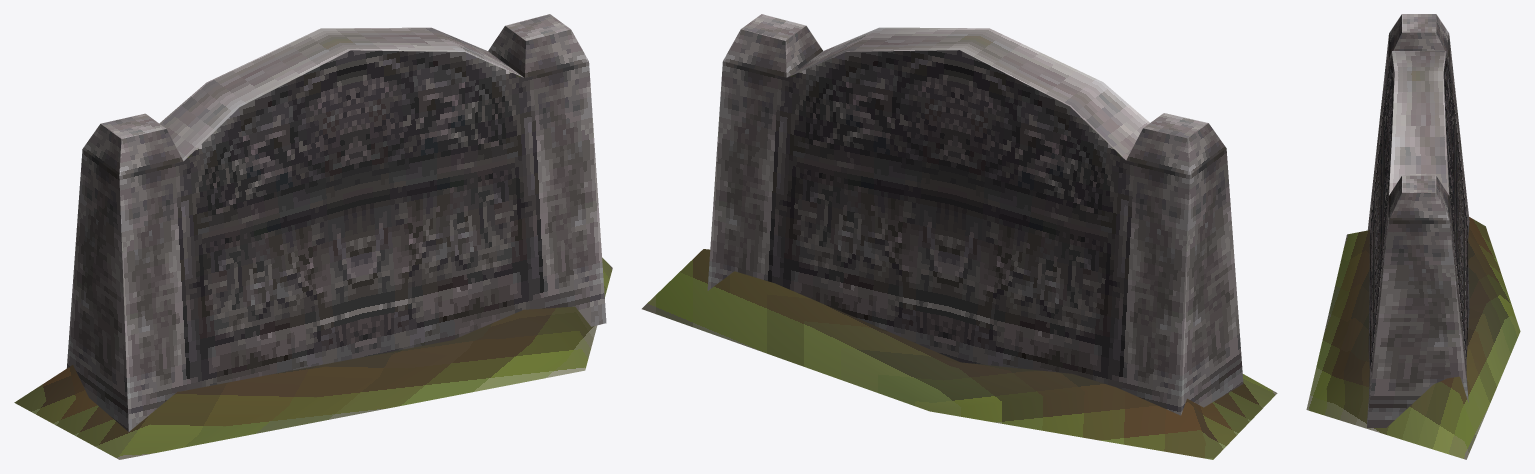
File: mubei02.FBX
The picture shows the model from 3 angles, left to right: view 1: azimuth 30°, elevation 25°; view 2: azimuth 150°, elevation 25°; view 3: azimuth 270°, elevation 25°; orthographic projection. The views are drawn at different scales.
Visible parts, largest first — view 1: Box002; view 2: Box002; view 3: Box002.
Boxes of the visible parts, x1=… form: Box002: x1=14, y1=14, x2=612, y2=459; Box002: x1=642, y1=14, x2=1277, y2=459; Box002: x1=1306, y1=14, x2=1520, y2=459.
Bounding box in the file's own units: 174 × 92.23 × 67.54.
Materials: 1 (1 with a texture image).
